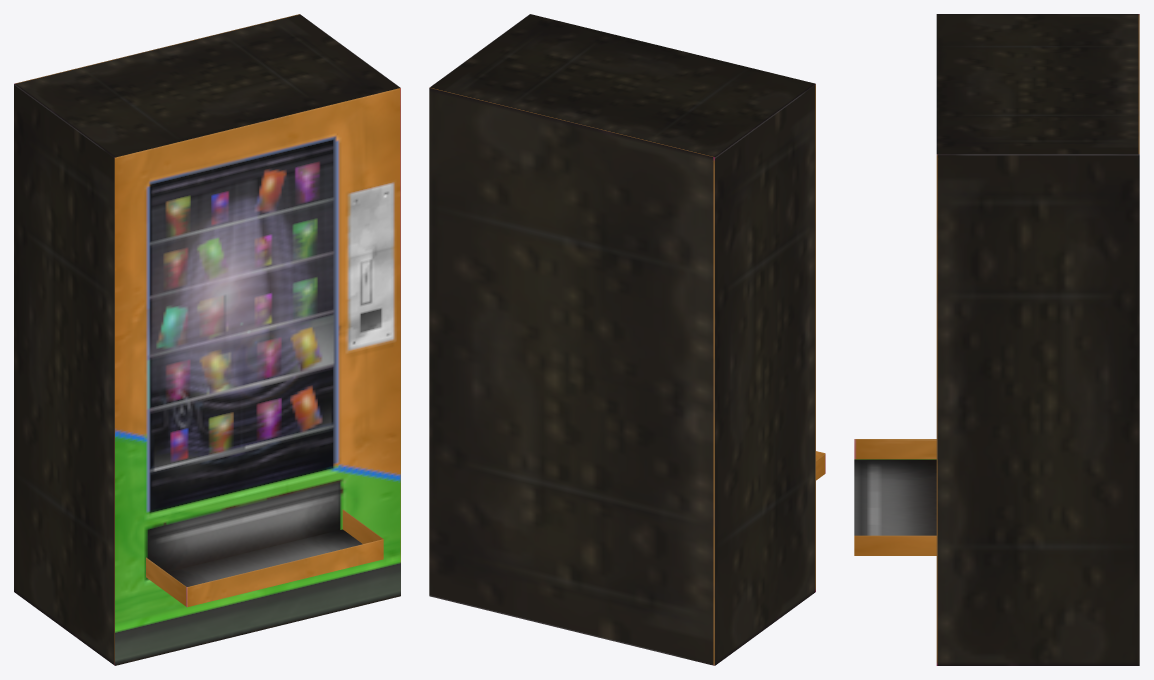
The model's file is vending m.glb.
3 renders of one model, left to right at view 1: azimuth 30°, elevation 25°; view 2: azimuth 150°, elevation 25°; view 3: azimuth 270°, elevation 25°, orthographic.
Parts seen in each view (by area): view 1: vending m; view 2: vending m; view 3: vending m.
Boxes of the visible parts, x1,y1,x2,y2 form: vending m: [14, 14, 400, 665]; vending m: [429, 14, 825, 665]; vending m: [854, 14, 1139, 665].
Size of the model in its own units: 237 by 403 by 204.
1 material, 1 textured.
